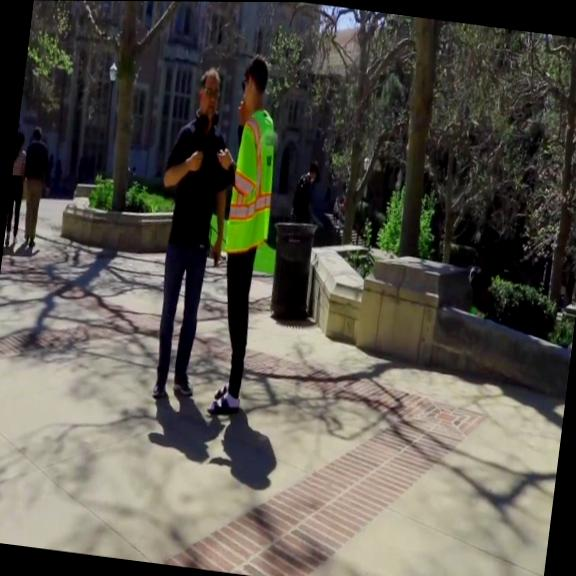safety_vest: (223, 102, 284, 259)
